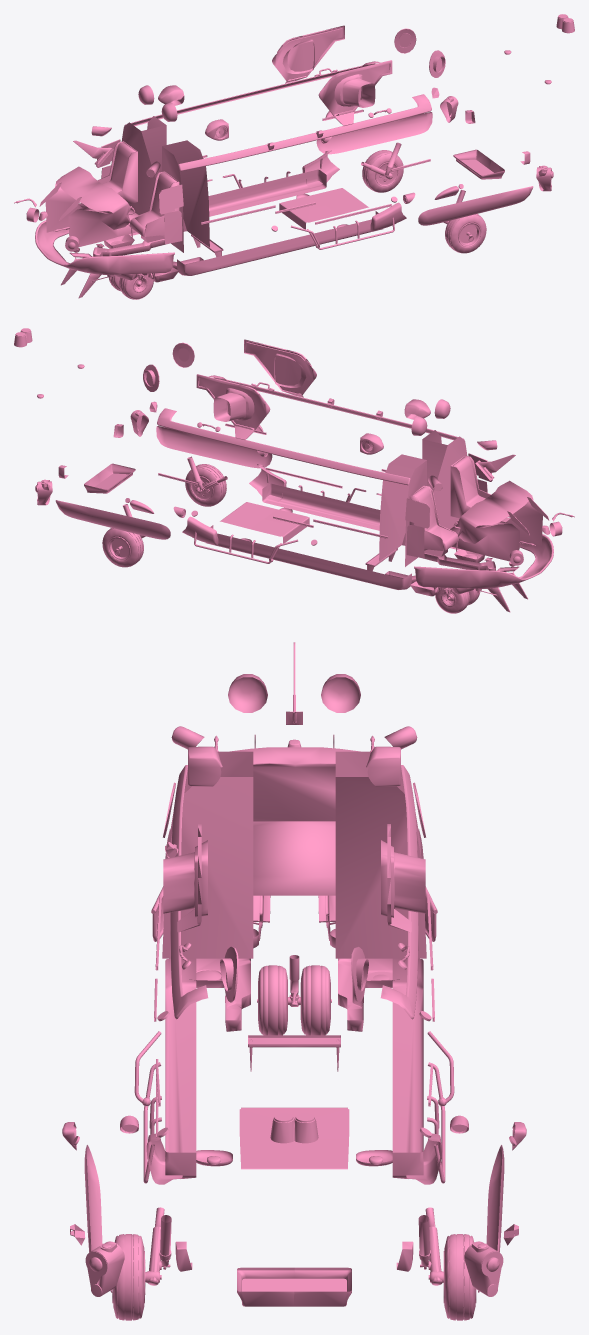
Rendered from P_SM_Roue_Helico_001.FBX.
The picture shows the model from 3 angles, top to bottom: view 1: azimuth 30°, elevation 25°; view 2: azimuth 150°, elevation 25°; view 3: azimuth 270°, elevation 25°; orthographic projection. The views are drawn at different scales.
Visible parts, largest first — view 1: P_SM_Base_Helicoptere_002, P_SM_Porte_Bas_001, P_SM_Roue_001, P_SM_Roue_002; view 2: P_SM_Base_Helicoptere_002, P_SM_Porte_Bas_001, P_SM_Roue_002, P_SM_Roue_001; view 3: P_SM_Base_Helicoptere_002, P_SM_Porte_Bas_001, P_SM_Roue_002, P_SM_Roue_001.
Boxes of the visible parts, x1,y1,x2,y2 form: P_SM_Base_Helicoptere_002: [14, 14, 574, 299]; P_SM_Porte_Bas_001: [279, 188, 368, 229]; P_SM_Roue_001: [445, 214, 486, 253]; P_SM_Roue_002: [362, 150, 403, 192]; P_SM_Base_Helicoptere_002: [14, 328, 574, 613]; P_SM_Porte_Bas_001: [220, 502, 309, 543]; P_SM_Roue_002: [102, 528, 143, 567]; P_SM_Roue_001: [185, 464, 226, 506]; P_SM_Base_Helicoptere_002: [62, 642, 526, 1306]; P_SM_Porte_Bas_001: [239, 1107, 349, 1169]; P_SM_Roue_002: [443, 1234, 479, 1320]; P_SM_Roue_001: [110, 1234, 144, 1320].
Size of the model in its own units: 1123 by 386 by 420.
